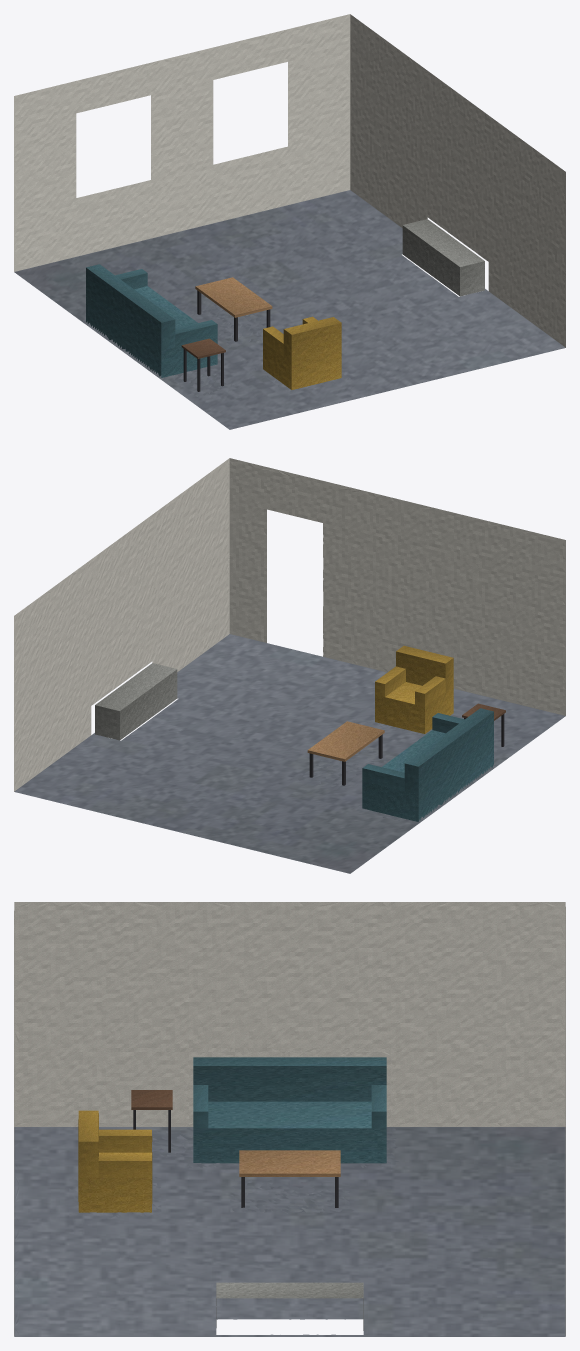
Rendered from room.glb.
The picture shows the model from 3 angles, top to bottom: view 1: azimuth 30°, elevation 25°; view 2: azimuth 150°, elevation 25°; view 3: azimuth 270°, elevation 25°; orthographic projection. The views are drawn at different scales.
Parts seen in each view (by area): view 1: Floor, North wall, East wall, Completion og_sofa (Fill Capture 1) (×2), Bench, Armchair base, Armchair back, Sofa base, Coffee table top, Sofa back, Sofa arms, Patch og_coffee_table (Fill Capture 1) (+3 smaller); view 2: Floor, South wall, East wall, Completion og_sofa (Fill Capture 1) (×2), Bench, Armchair base, Sofa base, Armchair back, Coffee table top, Sofa back, Armchair arms, Sofa arms (+1 smaller); view 3: West wall, Floor, Sofa base, Sofa back, Patch og_sofa (Fill Capture 1) (×2), Armchair base, Coffee table top, Armchair arms, Bench, Patch og_coffee_table (Fill Capture 1), Armchair back, Sofa arms (+2 smaller).
Boxes of the visible parts, x1,y1,x2,y2 form: Floor: [14, 190, 565, 429]; North wall: [14, 14, 350, 271]; East wall: [350, 14, 565, 347]; Completion og_sofa (Fill Capture 1) (×2): [86, 268, 161, 376]; Bench: [402, 219, 484, 296]; Armchair base: [263, 342, 341, 389]; Armchair back: [283, 317, 341, 362]; Sofa base: [134, 286, 217, 377]; Coffee table top: [195, 277, 272, 317]; Sofa back: [86, 264, 175, 350]; Sofa arms: [115, 269, 217, 347]; Patch og_coffee_table (Fill Capture 1): [188, 305, 266, 347]; Floor: [14, 634, 565, 873]; South wall: [229, 458, 565, 715]; East wall: [14, 458, 229, 791]; Completion og_sofa (Fill Capture 1) (×2): [418, 712, 493, 820]; Bench: [95, 663, 177, 740]; Armchair base: [375, 682, 453, 733]; Sofa base: [362, 730, 445, 821]; Armchair back: [396, 645, 453, 691]; Coffee table top: [307, 721, 384, 761]; Sofa back: [404, 708, 493, 794]; Armchair arms: [375, 666, 445, 706]; Sofa arms: [362, 713, 464, 791]; West wall: [14, 902, 565, 1126]; Floor: [14, 1127, 565, 1336]; Sofa base: [193, 1101, 386, 1163]; Sofa back: [193, 1057, 386, 1101]; Patch og_sofa (Fill Capture 1) (×2): [180, 1046, 400, 1167]; Armchair base: [78, 1152, 152, 1212]; Coffee table top: [239, 1150, 340, 1176]; Armchair arms: [98, 1129, 152, 1177]; Bench: [216, 1282, 363, 1330]; Patch og_coffee_table (Fill Capture 1): [230, 1179, 353, 1213]; Armchair back: [78, 1110, 98, 1177]; Sofa arms: [193, 1085, 386, 1128].
Size of the model in its own units: 5.4 by 2.7 by 6.
Materials: 24 (24 with a texture image).
